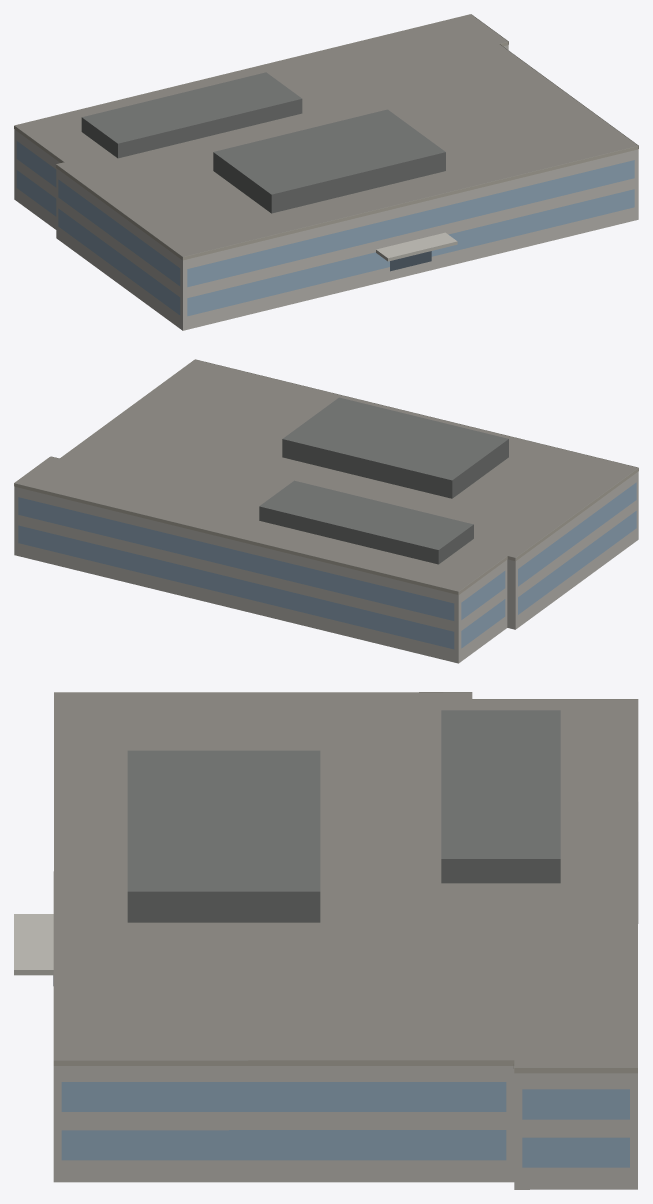
The model's file is main-library-1964.glb.
The picture shows the model from 3 angles, top to bottom: view 1: azimuth 30°, elevation 25°; view 2: azimuth 150°, elevation 25°; view 3: azimuth 270°, elevation 25°; orthographic projection. The views are drawn at different scales.
Visible parts, largest first — view 1: main_library_1964; view 2: main_library_1964; view 3: main_library_1964.
Part boxes in pixels (x1,y1,x2,y2): main_library_1964: [14, 14, 638, 330]; main_library_1964: [14, 359, 638, 663]; main_library_1964: [14, 692, 638, 1189].
Size of the model in its own units: 66.99 by 12.76 by 47.09.
